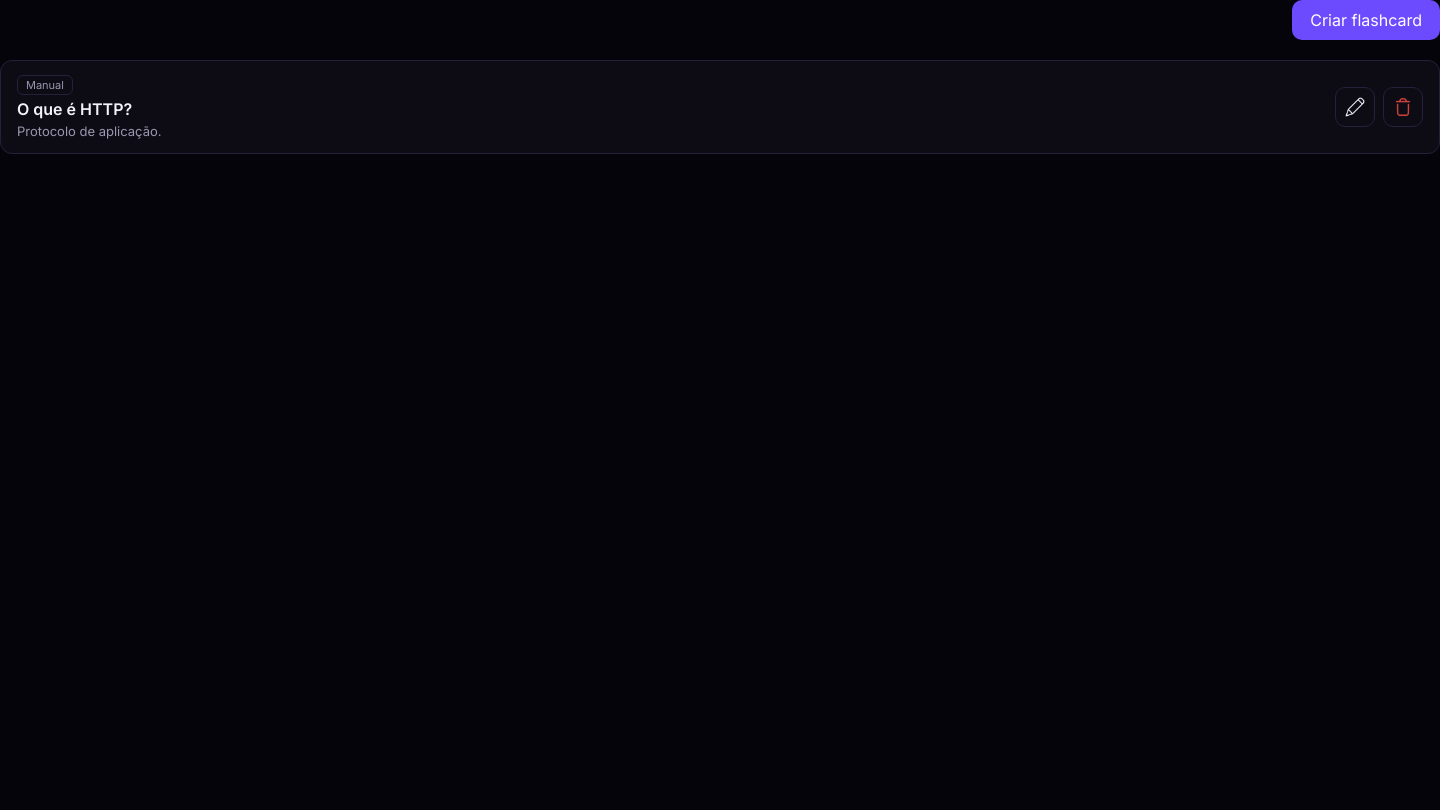
Test case: FlashcardsTab › o lápis abre o popup de edição preenchido
Expected: the text "O que é HTTP?" is shown, [17,99,132,119]
Click the button named "Editar O que é HTTP?": click(1355, 107) [1335,87,1375,127]
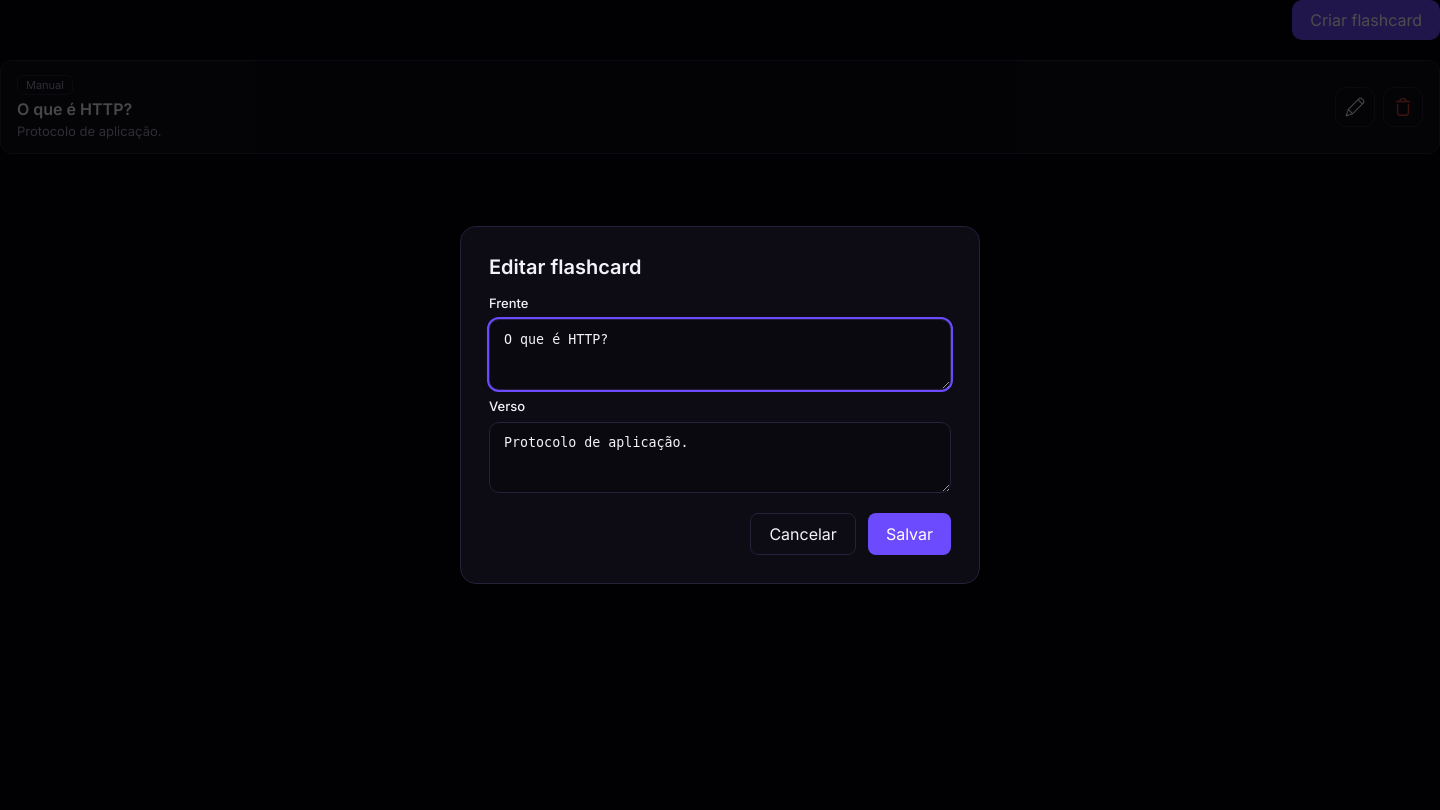
Expected: the heading "Editar flashcard" is shown, [489,255,642,279]
Expected: the text box labelled "Frente" holds "O que é HTTP?", [489,319,951,390]
Expected: the text box labelled "Verso" holds "Protocolo de aplicação.", [489,422,951,493]
